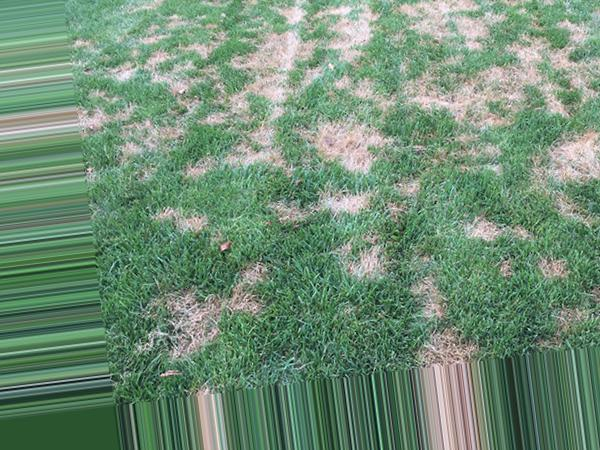patch: (323, 19, 391, 76), (338, 119, 382, 160), (429, 12, 477, 37), (271, 42, 308, 73), (448, 98, 477, 115)
